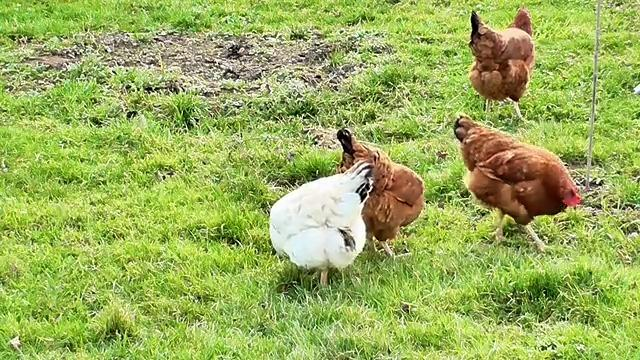Normal: (459, 116, 579, 237), (469, 10, 541, 114)
